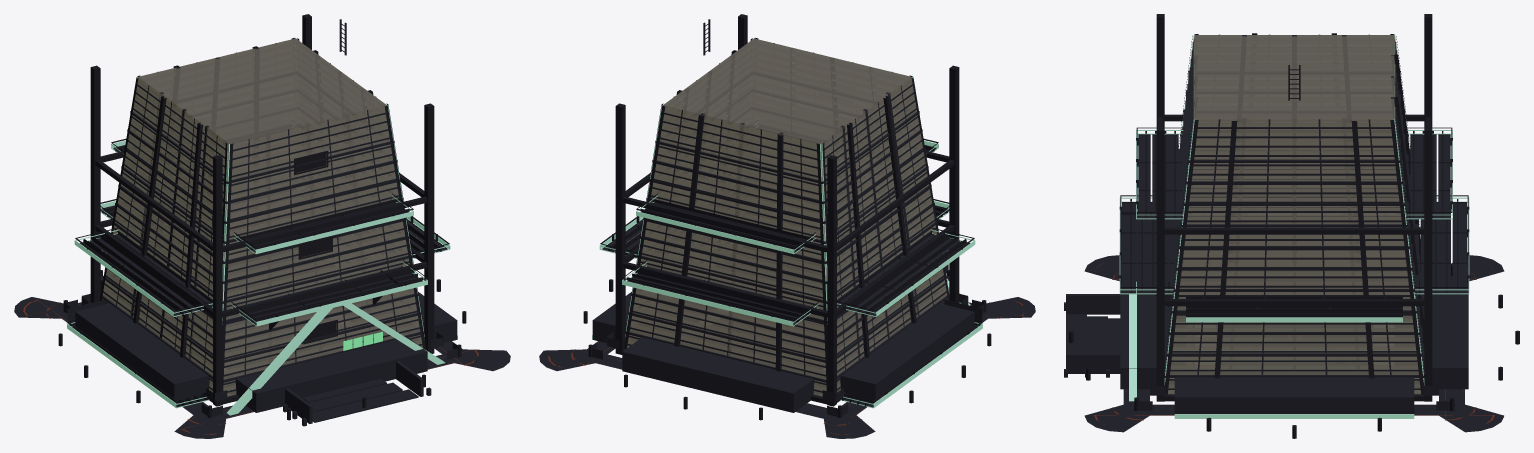
The model's file is fitness-ext.glb.
3 renders of one model, left to right at view 1: azimuth 30°, elevation 25°; view 2: azimuth 150°, elevation 25°; view 3: azimuth 270°, elevation 25°, orthographic. The views are drawn at different scales.
Parts seen in each view (by area): view 1: Fitness_Body_Glass, Fitness_Window_Frames, Fitness_Cantilever_F20, Fitness_Body_Ledges, Fitness_Corner_Columns, Fitness_Cantilever_Ribs, Fitness_Horizontal_Beams, Fitness_Facade_Details, Fitness_Entrance_Approach, Fitness_Cantilever_Trim, Fitness_Athletic_Track, Fitness_Cantilever_Panels (+11 smaller); view 2: Fitness_Body_Glass, Fitness_Window_Frames, Fitness_Cantilever_F20, Fitness_Body_Ledges, Fitness_Corner_Columns, Fitness_Cantilever_Ribs, Fitness_Horizontal_Beams, Fitness_Service_Ducts, Fitness_Athletic_Track, Fitness_Cantilever_Trim, Fitness_Cantilever_Panels, Fitness_Facade_Details (+9 smaller); view 3: Fitness_Body_Glass, Fitness_Window_Frames, Fitness_Body_Ledges, Fitness_Cantilever_Panels, Fitness_Cantilever_F20, Fitness_Corner_Columns, Fitness_Cantilever_Ribs, Fitness_Cantilever_F10, Fitness_Athletic_Track, Fitness_Entrance_Approach, Fitness_Horizontal_Beams, Fitness_Service_Ducts (+11 smaller).
Part boxes in pixels (x1=…): Fitness_Body_Glass: x1=102, y1=38, x2=422, y2=396; Fitness_Window_Frames: x1=102, y1=84, x2=422, y2=392; Fitness_Cantilever_F20: x1=75, y1=275, x2=449, y2=412; Fitness_Body_Ledges: x1=100, y1=111, x2=424, y2=382; Fitness_Corner_Columns: x1=90, y1=14, x2=434, y2=406; Fitness_Cantilever_Ribs: x1=74, y1=146, x2=441, y2=405; Fitness_Horizontal_Beams: x1=95, y1=151, x2=427, y2=404; Fitness_Facade_Details: x1=99, y1=37, x2=425, y2=390; Fitness_Entrance_Approach: x1=285, y1=19, x2=423, y2=423; Fitness_Cantilever_Trim: x1=67, y1=140, x2=457, y2=408; Fitness_Athletic_Track: x1=14, y1=297, x2=510, y2=438; Fitness_Cantilever_Panels: x1=72, y1=145, x2=447, y2=406; Fitness_Body_Glass: x1=627, y1=38, x2=947, y2=396; Fitness_Window_Frames: x1=627, y1=84, x2=947, y2=392; Fitness_Cantilever_F20: x1=600, y1=275, x2=974, y2=412; Fitness_Body_Ledges: x1=625, y1=111, x2=949, y2=382; Fitness_Corner_Columns: x1=615, y1=14, x2=959, y2=406; Fitness_Cantilever_Ribs: x1=599, y1=146, x2=975, y2=406; Fitness_Horizontal_Beams: x1=622, y1=151, x2=954, y2=404; Fitness_Service_Ducts: x1=674, y1=50, x2=916, y2=371; Fitness_Athletic_Track: x1=539, y1=297, x2=1035, y2=438; Fitness_Cantilever_Trim: x1=592, y1=140, x2=982, y2=408; Fitness_Cantilever_Panels: x1=602, y1=145, x2=977, y2=407; Fitness_Facade_Details: x1=624, y1=37, x2=950, y2=390; Fitness_Body_Glass: x1=1166, y1=35, x2=1420, y2=394; Fitness_Window_Frames: x1=1165, y1=41, x2=1423, y2=389; Fitness_Body_Ledges: x1=1164, y1=70, x2=1424, y2=377; Fitness_Cantilever_Panels: x1=1122, y1=134, x2=1466, y2=313; Fitness_Cantilever_F20: x1=1120, y1=276, x2=1468, y2=395; Fitness_Corner_Columns: x1=1156, y1=14, x2=1432, y2=401; Fitness_Cantilever_Ribs: x1=1130, y1=131, x2=1458, y2=317; Fitness_Cantilever_F10: x1=1174, y1=377, x2=1414, y2=413; Fitness_Athletic_Track: x1=1084, y1=255, x2=1504, y2=432; Fitness_Entrance_Approach: x1=1066, y1=65, x2=1300, y2=373; Fitness_Horizontal_Beams: x1=1158, y1=114, x2=1430, y2=401; Fitness_Service_Ducts: x1=1214, y1=33, x2=1424, y2=378.
Bounding box in the file's own units: 17.2 × 13.5 × 17.36.
